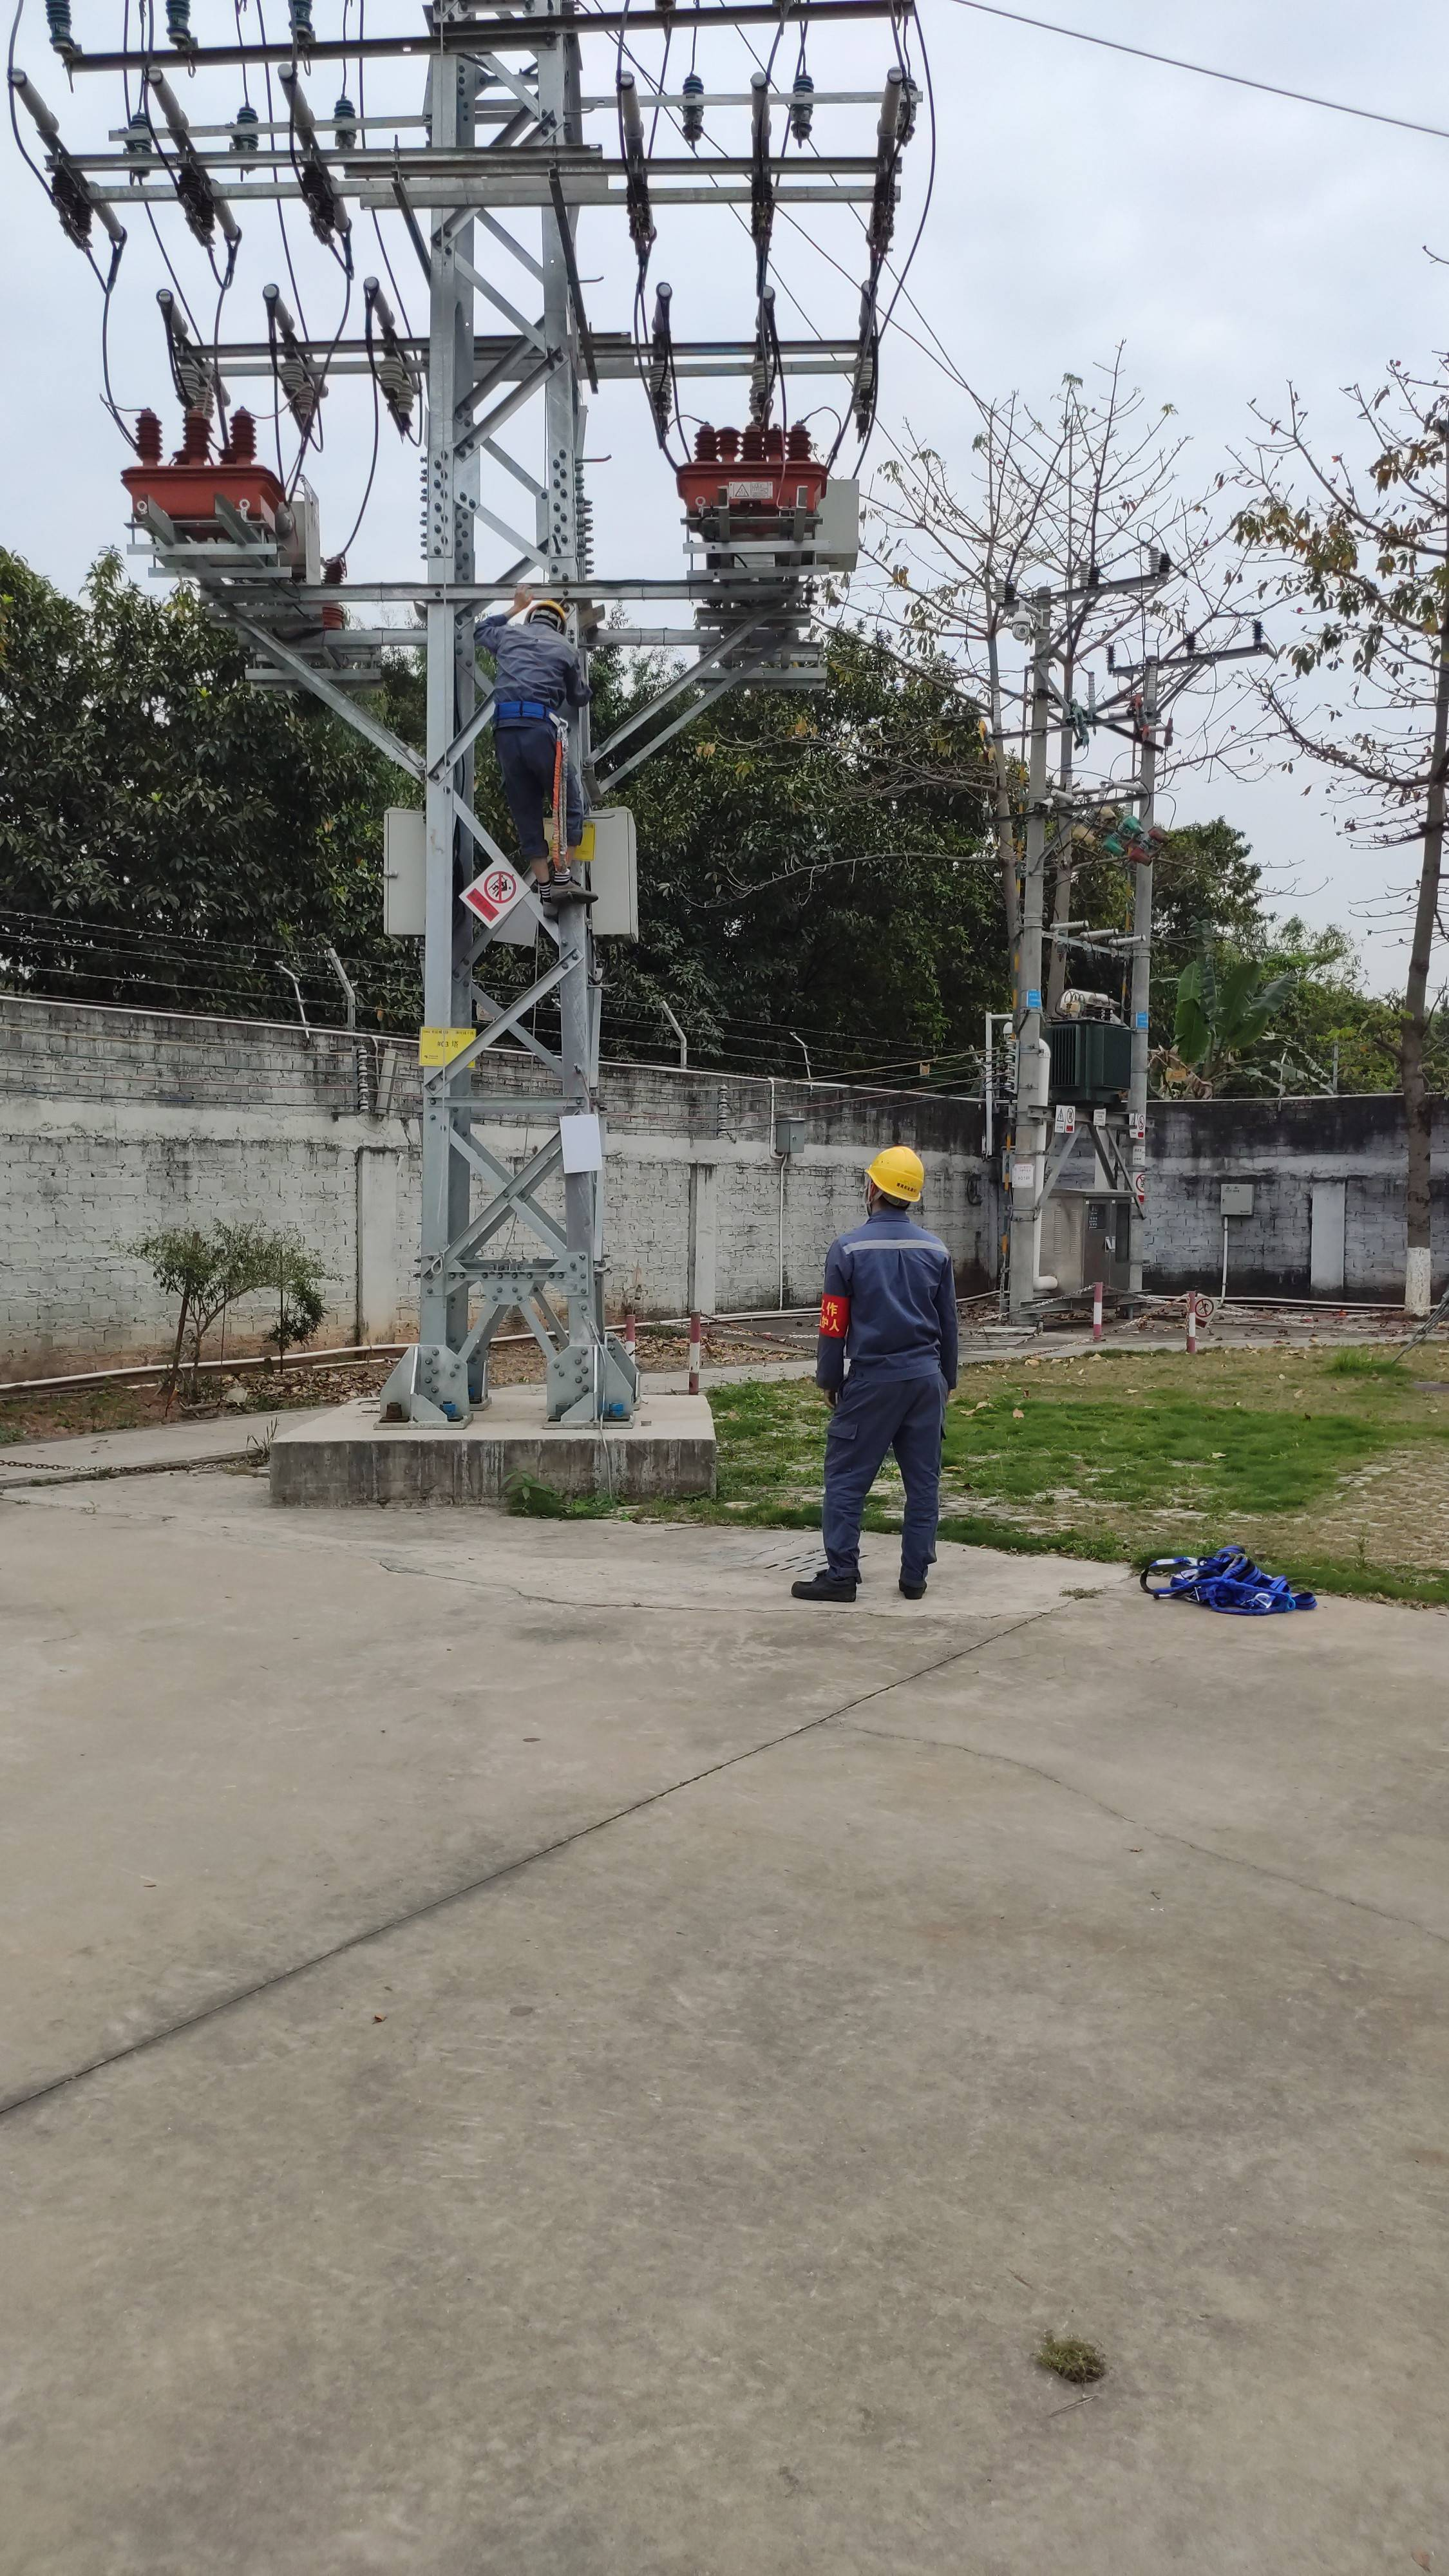downsuit: (812, 1392, 954, 1573), (497, 725, 584, 853)
upsuit: (814, 1212, 964, 1380), (481, 614, 582, 717)
wrongbottom: (522, 839, 547, 883)
